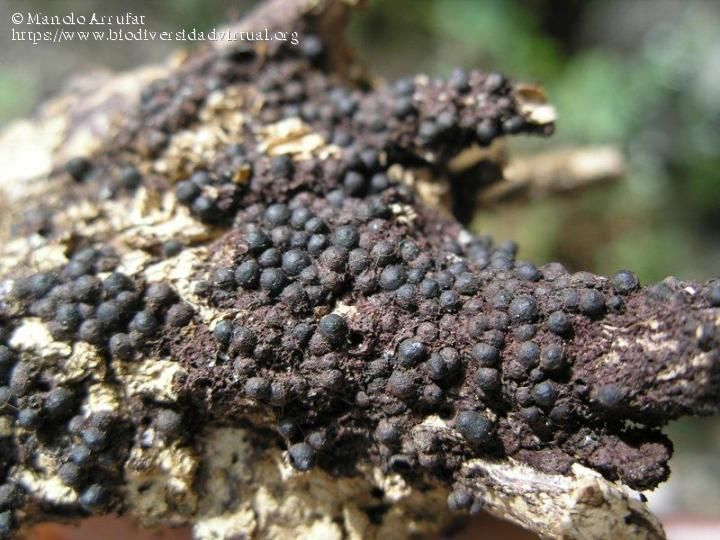pudricion radicular: (97, 57, 701, 505)
